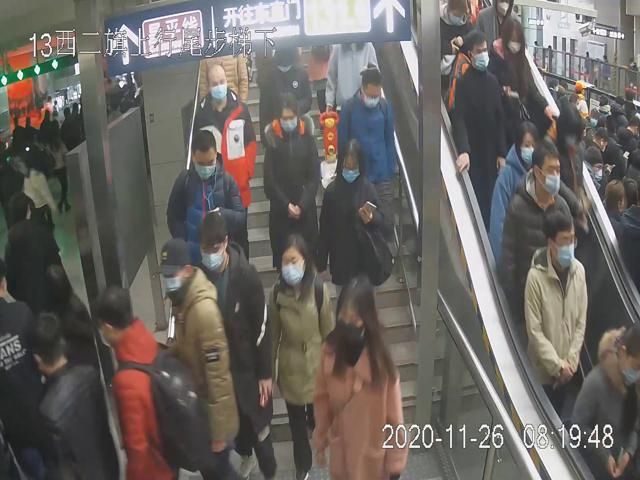person: (196, 210, 273, 480), (312, 268, 409, 480), (158, 236, 230, 477), (266, 231, 333, 480), (496, 138, 576, 324), (318, 134, 395, 299), (524, 208, 590, 396), (261, 91, 322, 264), (166, 131, 246, 259), (335, 62, 398, 224), (196, 60, 257, 227), (451, 28, 504, 214), (487, 120, 537, 271)
